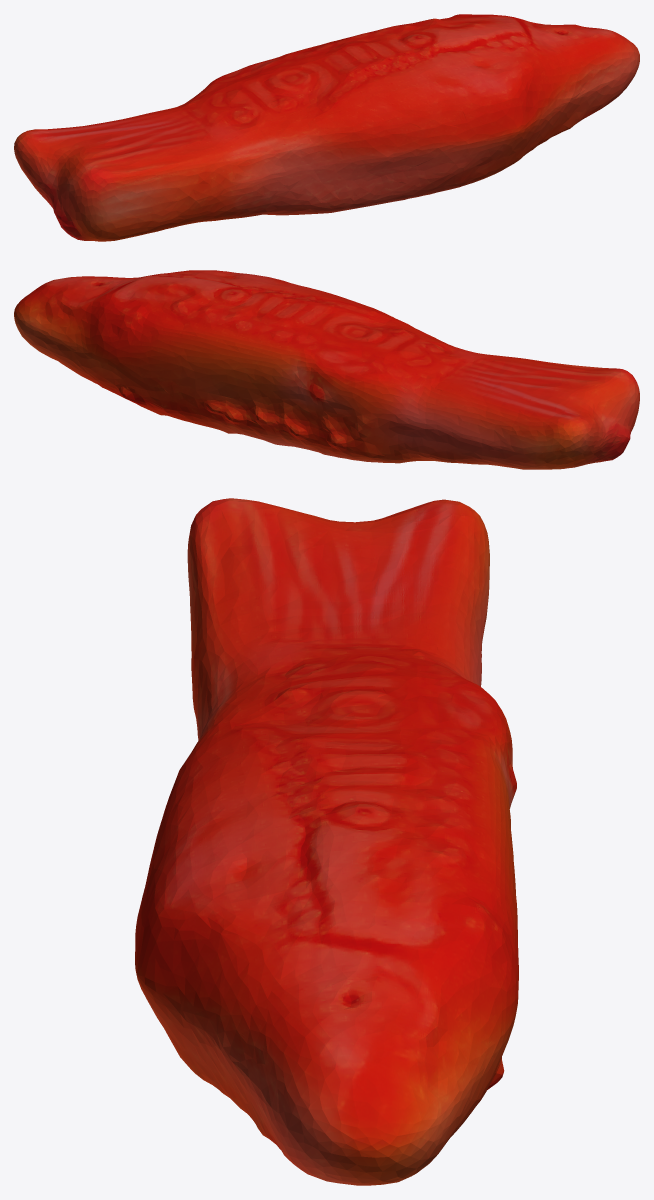
File: orange_fish.glb
3 renders of one model, top to bottom at view 1: azimuth 30°, elevation 25°; view 2: azimuth 150°, elevation 25°; view 3: azimuth 270°, elevation 25°, orthographic. The views are drawn at different scales.
Parts seen in each view (by area): view 1: world; view 2: world; view 3: world.
Boxes of the visible parts, x1,y1,x2,y2 form: world: (14,14,639,241); world: (14,270,639,469); world: (135,498,518,1185).
Size of the model in its own units: 0.993 by 0.1997 by 0.2799.
Materials: 1 (1 with a texture image).
